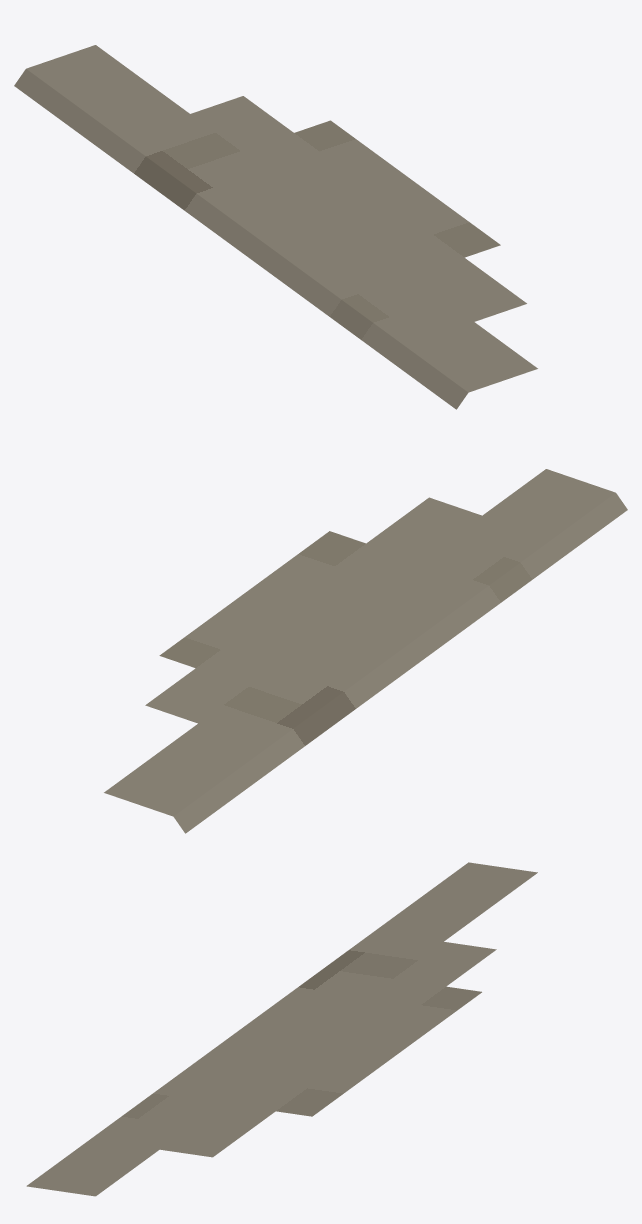
3 views of the same model, one above another, from view 1: azimuth 30°, elevation 25°; view 2: azimuth 150°, elevation 25°; view 3: azimuth 330°, elevation 25° (orthographic).
Size of the model in its own units: 0.2236 by 0.0373 by 1.
1 material, 1 textured.
